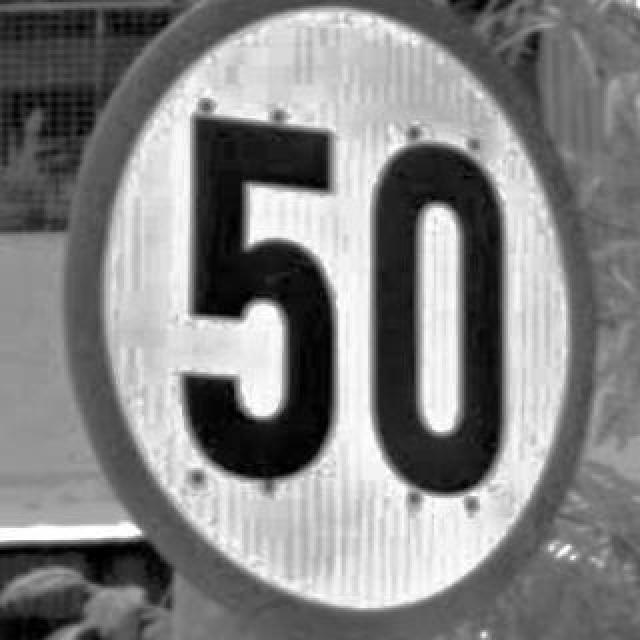50 kph: (60, 0, 602, 636)
